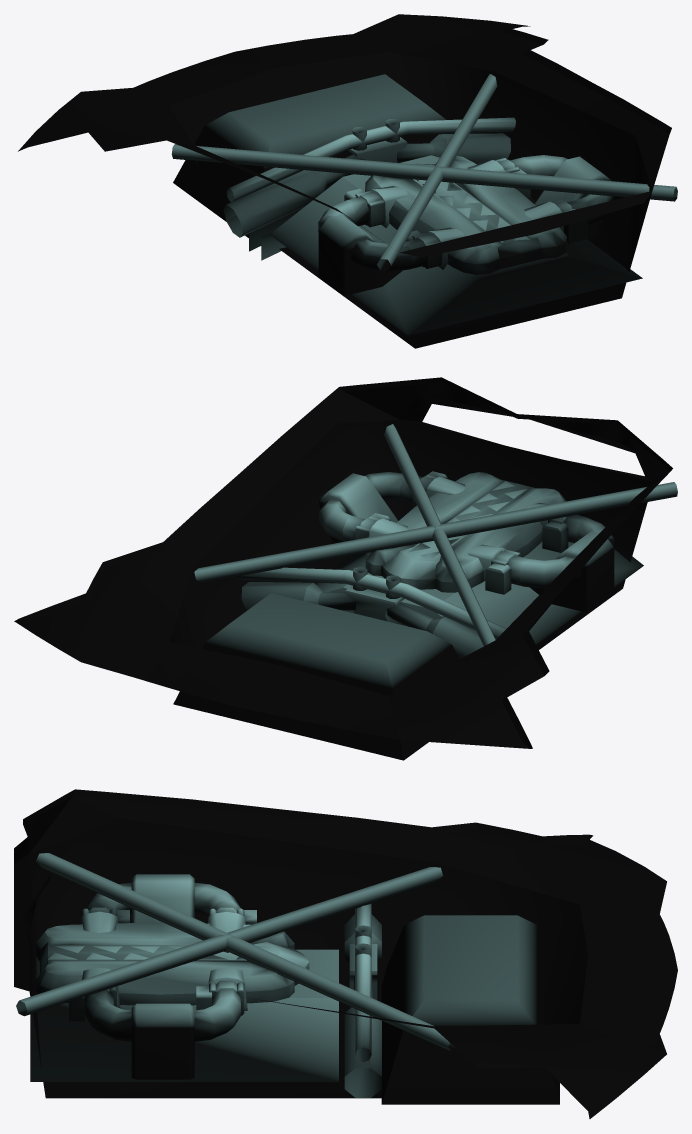
Rendered from Aventador_Engine_Trim.fbx.
The picture shows the model from 3 angles, top to bottom: view 1: azimuth 30°, elevation 25°; view 2: azimuth 150°, elevation 25°; view 3: azimuth 270°, elevation 25°; orthographic projection. The views are drawn at different scales.
Visible parts, largest first — view 1: Aventador_Engine_Trim; view 2: Aventador_Engine_Trim; view 3: Aventador_Engine_Trim.
Part boxes in pixels (left/top/right/bottom): Aventador_Engine_Trim: left=18, top=14, right=677, bottom=348; Aventador_Engine_Trim: left=14, top=377, right=677, bottom=760; Aventador_Engine_Trim: left=14, top=789, right=677, bottom=1118.
Bounding box in the file's own units: 170 × 51.62 × 170.
